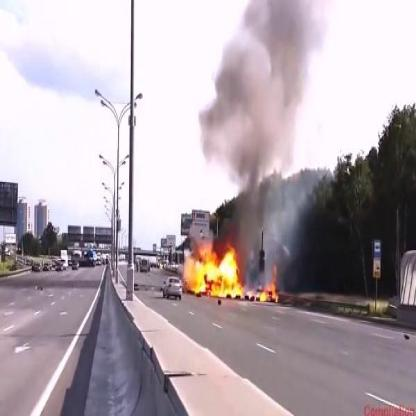fire: (188, 244, 245, 302), (257, 268, 279, 303)
